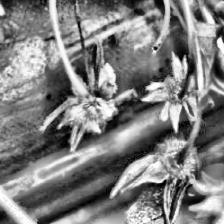Gray Mold: (42, 39, 136, 155), (110, 137, 200, 224)
